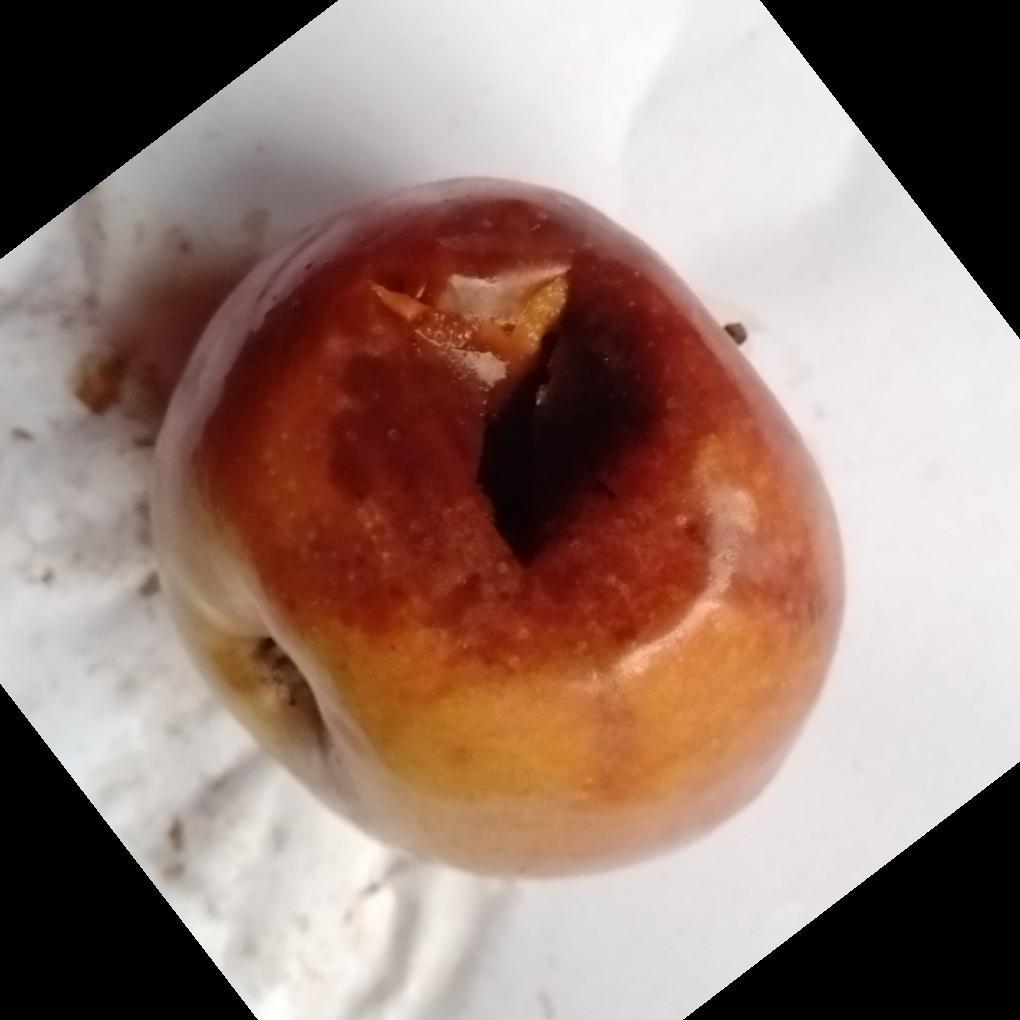FreshOrange: (150, 178, 849, 885)
